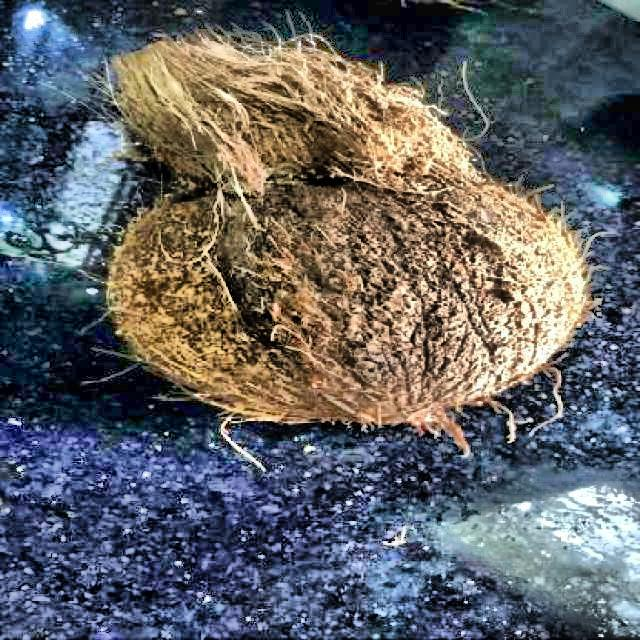good: (102, 46, 590, 427)
